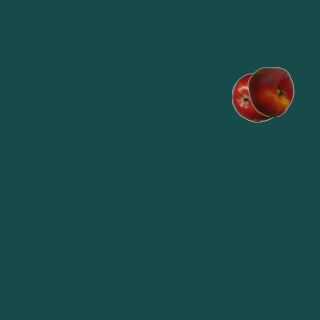Apple Braeburn: (231, 72, 281, 122)
Nectarine Flat: (245, 66, 295, 116)
